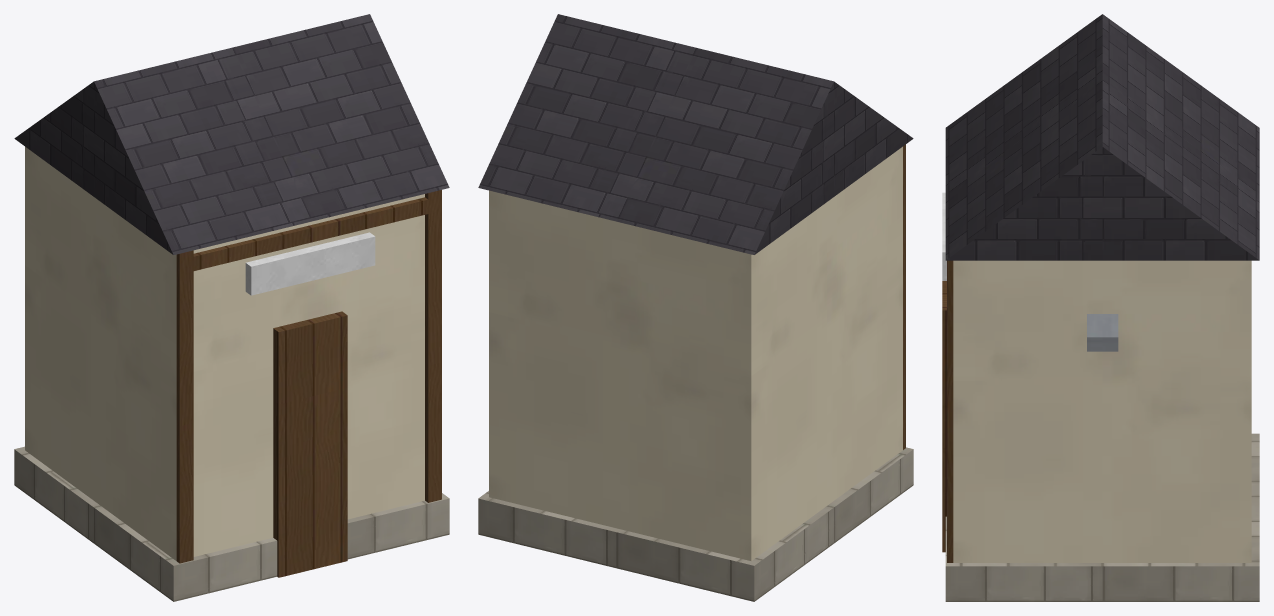
Rendered from category.bridge.t0.glb.
The picture shows the model from 3 angles, left to right: view 1: azimuth 30°, elevation 25°; view 2: azimuth 150°, elevation 25°; view 3: azimuth 270°, elevation 25°; orthographic projection.
Visible parts, largest first — view 1: building.category.bridge.t0; view 2: building.category.bridge.t0; view 3: building.category.bridge.t0.
Part boxes in pixels (x1=…): building.category.bridge.t0: x1=14, y1=14, x2=449, y2=601; building.category.bridge.t0: x1=478, y1=14, x2=913, y2=601; building.category.bridge.t0: x1=942, y1=14, x2=1259, y2=601.
Bounding box in the file's own units: 2.3 × 3.2 × 2.02.
Materials: 6 (6 with a texture image).
